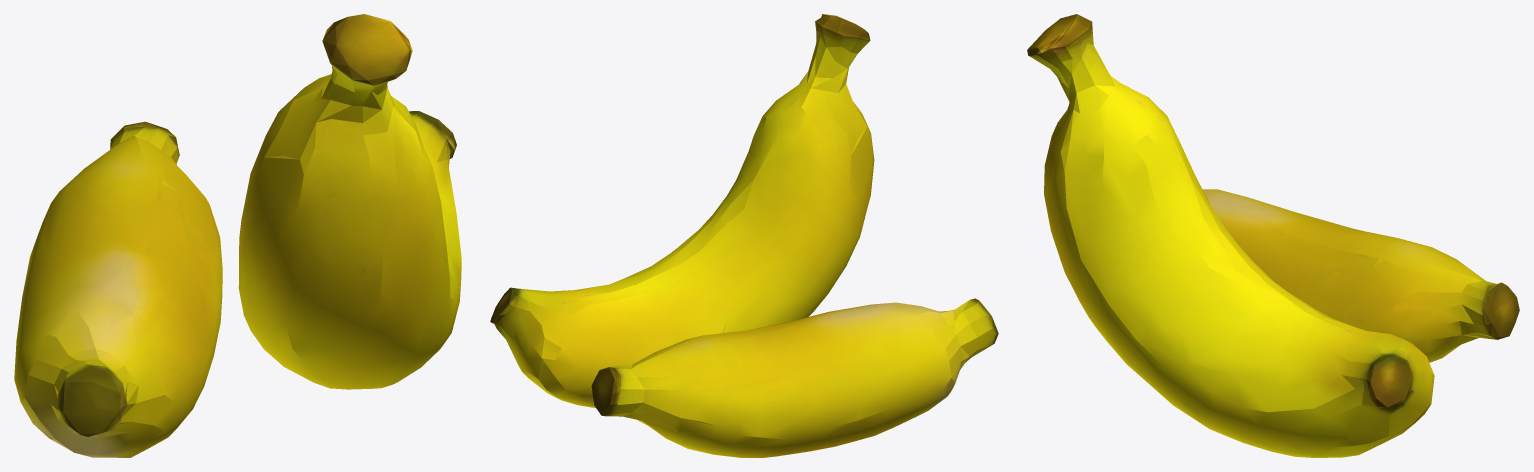
The model's file is banana.glb.
3 renders of one model, left to right at view 1: azimuth 30°, elevation 25°; view 2: azimuth 150°, elevation 25°; view 3: azimuth 270°, elevation 25°, orthographic. The views are drawn at different scales.
Visible parts, largest first — view 1: model; view 2: model; view 3: model.
Part boxes in pixels (bbox=[...]): model: bbox=[14, 14, 461, 457]; model: bbox=[490, 14, 998, 457]; model: bbox=[1027, 14, 1519, 457].
Bounding box in the file's own units: 1.9 × 1.56 × 1.85.
1 material, 1 textured.
